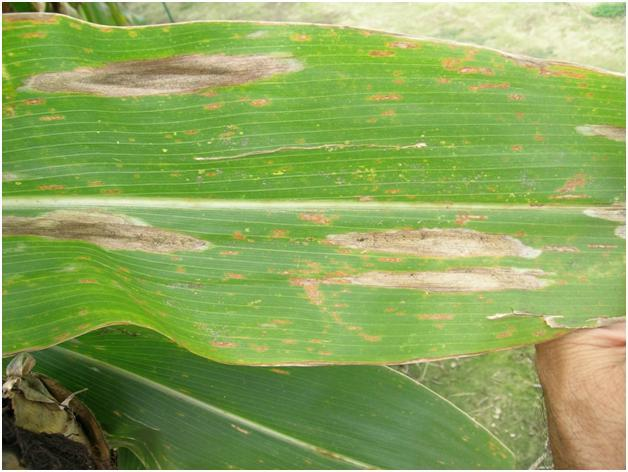Corn leaf blight: (5, 11, 628, 372)
